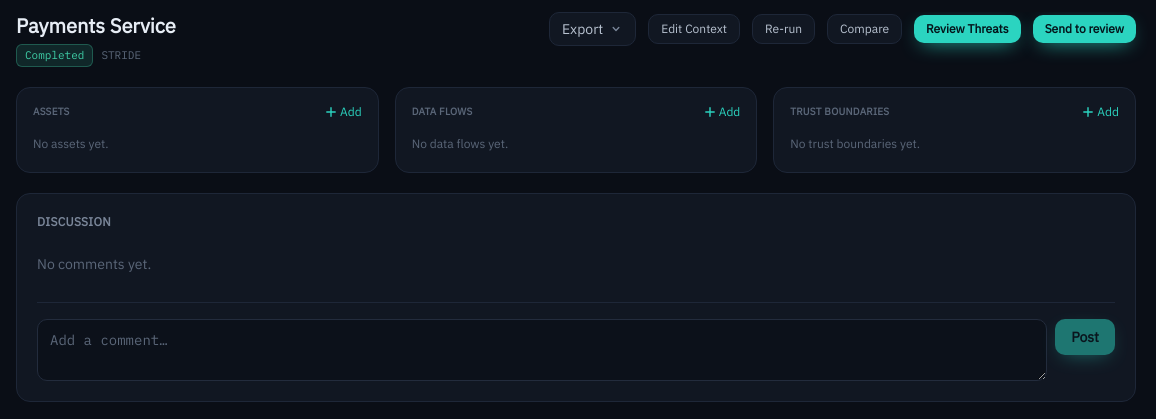
Test case: Results — status workflow actions › shows "Send to review" for a completed model and transitions on click
What coordinates should you click on to do the following:
click the button "Send to review"
I would click on:
 (1084, 29)
Its box is [1033,15,1136,43].
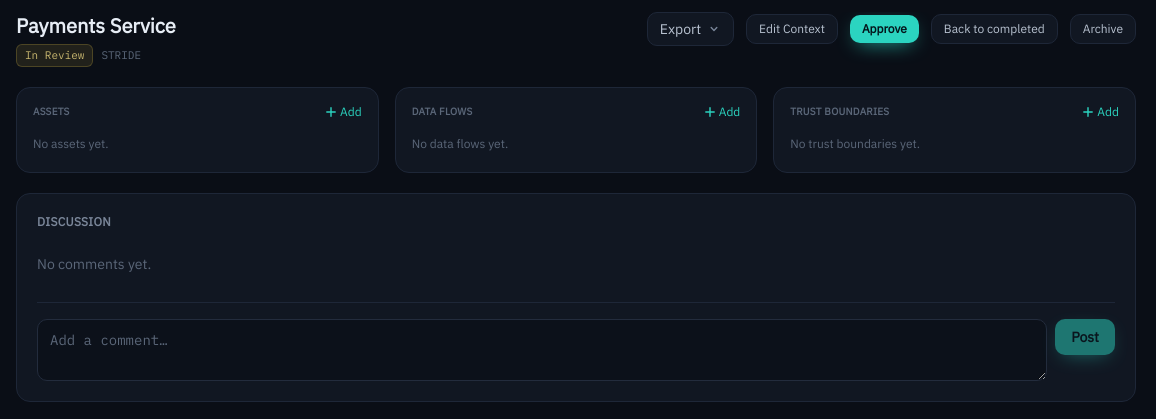
Now the text "in review" is shown, box [16,44,93,66]
